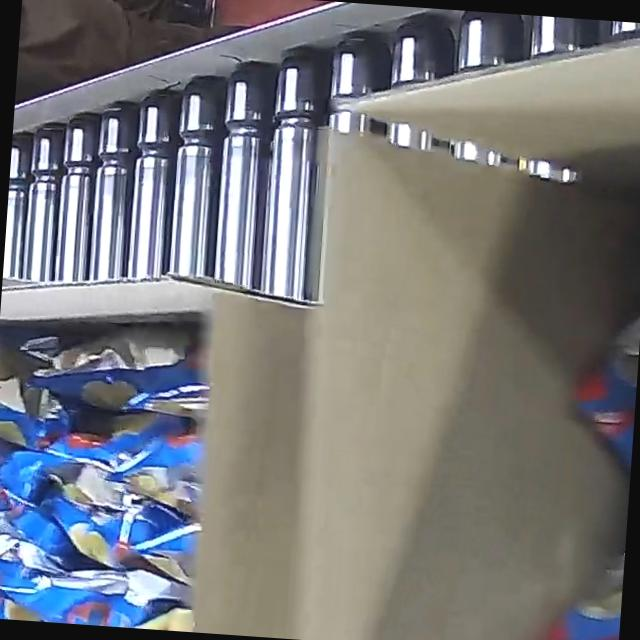paprika: (0, 326, 214, 632), (508, 233, 640, 640)
